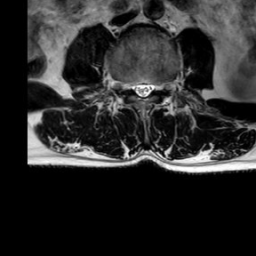CCS_severe_stenosis: (139, 73, 146, 106)
LFS_stenosis: (154, 73, 163, 97)
LLS_stenosis: (146, 74, 154, 99)
RFS_normal: (122, 71, 131, 97)
RLS_normal: (131, 74, 139, 99)
